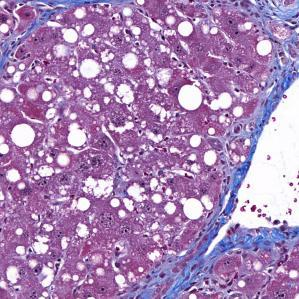fibrosis: (177, 217, 278, 280), (255, 0, 299, 72)
